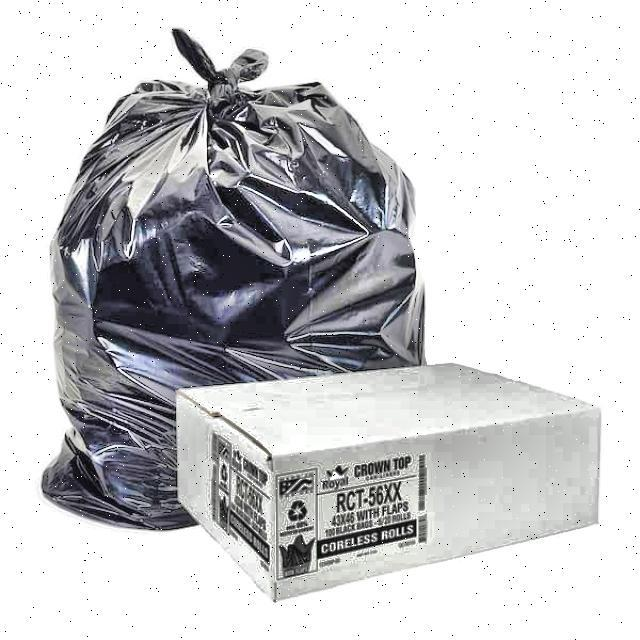Trashbag: (46, 54, 431, 403)
